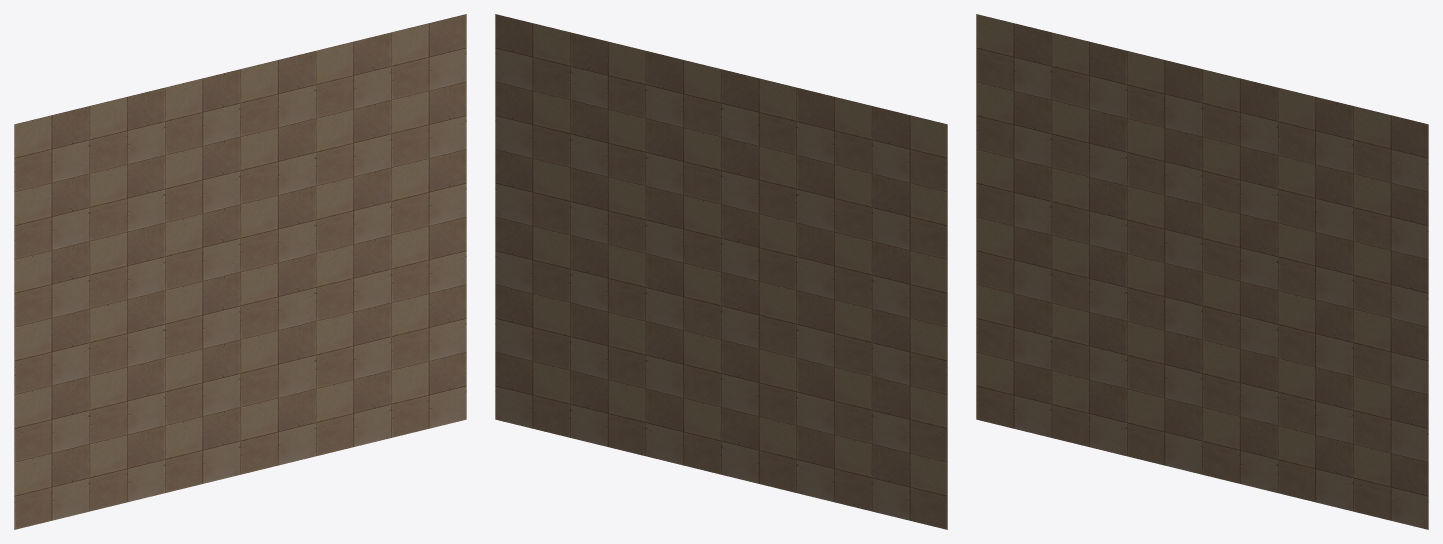
File: qiangti4.FBX
3 renders of one model, left to right at view 1: azimuth 30°, elevation 25°; view 2: azimuth 150°, elevation 25°; view 3: azimuth 330°, elevation 25°, orthographic.
Visible parts, largest first — view 1: Object046; view 2: Object046; view 3: Object046.
Boxes of the visible parts, x1,y1,x2,y2 form: Object046: (14, 14, 466, 529); Object046: (495, 14, 947, 529); Object046: (976, 14, 1428, 529).
Bounding box in the file's own units: 4939 × 4230 × 0.091.
